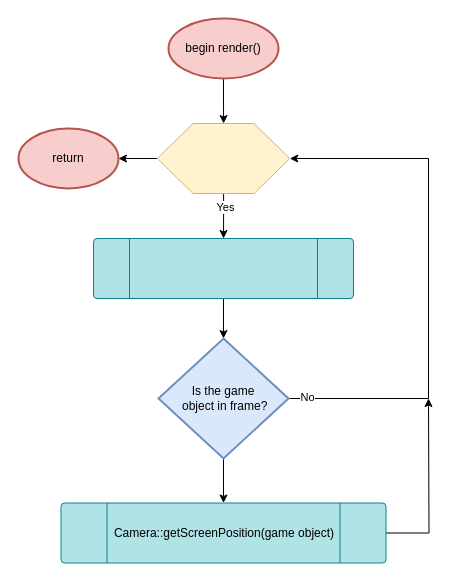
Some shapes in this 454 by 580 pixel diagram are drawn without their labels. The shapes that lost their labels are listed below. From the top down, each one's centre as x and y in pixels, then its label:
the point at 223,158: Iterate through every game object.
the point at 223,268: Camera::isInFrame(game object)
